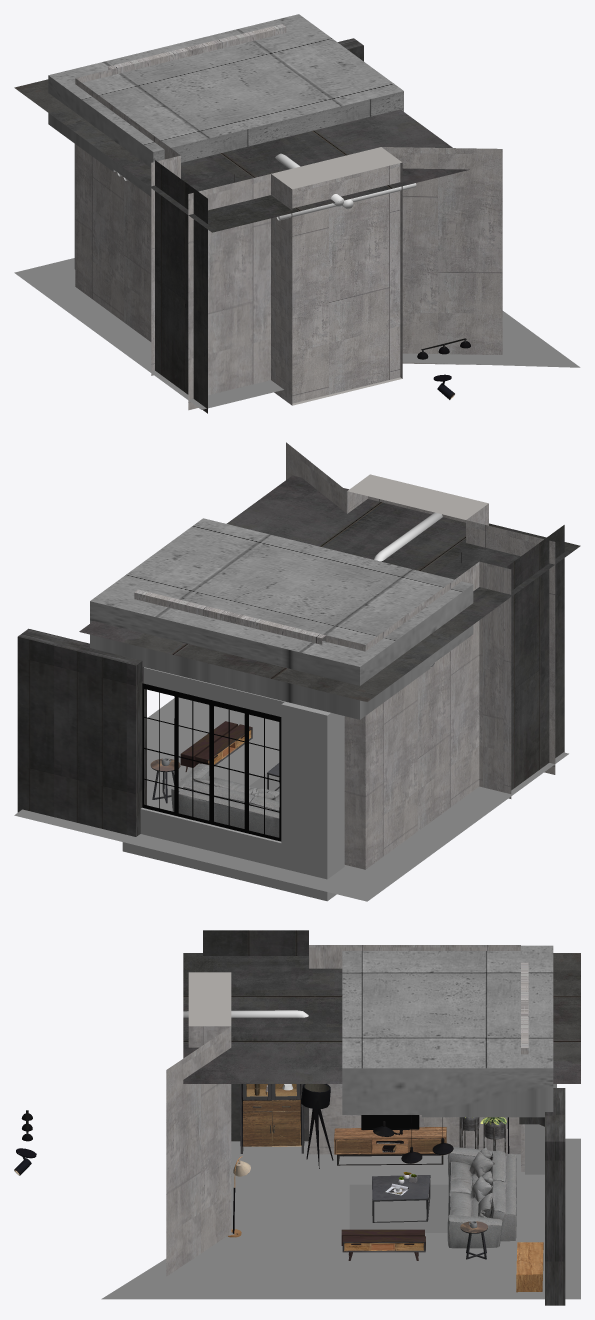
Rendered from living_room_interior_free.glb.
3 renders of one model, top to bottom at view 1: azimuth 30°, elevation 25°; view 2: azimuth 150°, elevation 25°; view 3: azimuth 270°, elevation 25°, orthographic. The views are drawn at different scales.
Visible parts, largest first — view 1: Plane.002, Cube.002, Plane.001, Plane.004, Plane.003, Plane, material.003, Cylinder.001; view 2: Cube.002, Plane.001, Cube.003, Plane.004, Cube, Plane, Plane.003, Plane.002, object 19, material, material.002, Cylinder.004; view 3: Plane, Cube.002, Plane.004, Plane.002, material, material.001, Plane.001, Cube.003, material.002, Cube.001, Plane.003, material.003 (+2 smaller).
Boxes of the visible parts, x1,y1,x2,y2 form: Plane.002: (188,147,502,410); Cube.002: (48,14,403,196); Plane.001: (75,24,286,375); Plane.004: (14,79,469,232); Plane.003: (155,160,207,413); Plane: (14,258,580,409); material.003: (234,174,470,399); Cylinder.001: (276,183,416,220); Cube.002: (90,518,473,719); Plane.001: (134,561,511,869); Cube.003: (17,628,146,836); Plane.004: (79,475,580,701); Cube: (122,667,344,901); Plane: (14,697,568,901); Plane.003: (507,525,564,790); Plane.002: (286,442,555,774); object 19: (142,683,281,841); material: (171,763,279,837); material.002: (150,721,252,803); Cylinder.004: (374,512,442,561); Plane: (101,1138,580,1299); Cube.002: (342,945,553,1117); Plane.004: (183,953,580,1083); Plane.002: (166,972,231,1276); material: (372,1147,543,1292); material.001: (239,1084,446,1165); Plane.001: (309,945,528,1171); Cube.003: (519,1088,565,1305); material.002: (341,1117,506,1260); Cube.001: (349,1184,448,1232); Plane.003: (203,930,308,1141); material.003: (14,1084,509,1237).
Size of the model in its own units: 37.81 by 25.12 by 55.72.
12 materials, 8 textured.
